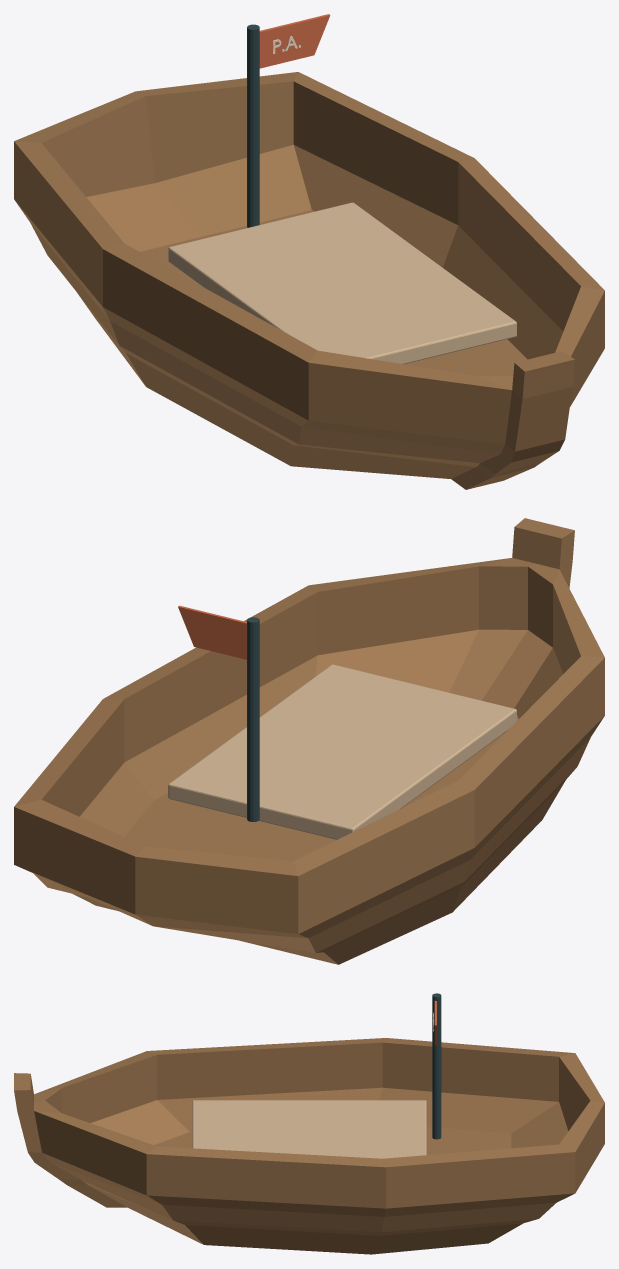
The model's file is PA_DepartureBoat.fbx.
The picture shows the model from 3 angles, top to bottom: view 1: azimuth 30°, elevation 25°; view 2: azimuth 150°, elevation 25°; view 3: azimuth 270°, elevation 25°; orthographic projection. The views are drawn at different scales.
Parts seen in each view (by area): view 1: PA_DepartureBoat; view 2: PA_DepartureBoat; view 3: PA_DepartureBoat.
Part boxes in pixels (<box>): PA_DepartureBoat: <box>14,14,604,489</box>; PA_DepartureBoat: <box>14,518,604,964</box>; PA_DepartureBoat: <box>14,993,604,1254</box>.
Bounding box in the file's own units: 3.01 × 2.23 × 5.8.
